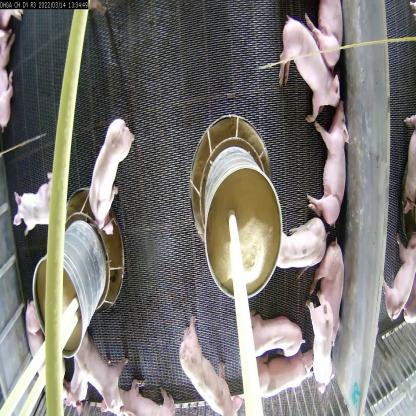Pig: (304, 102, 359, 230), (84, 114, 138, 233), (279, 22, 337, 129), (174, 327, 242, 416), (263, 193, 324, 291), (306, 232, 353, 345), (298, 296, 340, 398), (10, 166, 63, 240), (252, 348, 317, 401), (81, 342, 123, 414), (242, 303, 296, 356), (114, 368, 172, 415)
